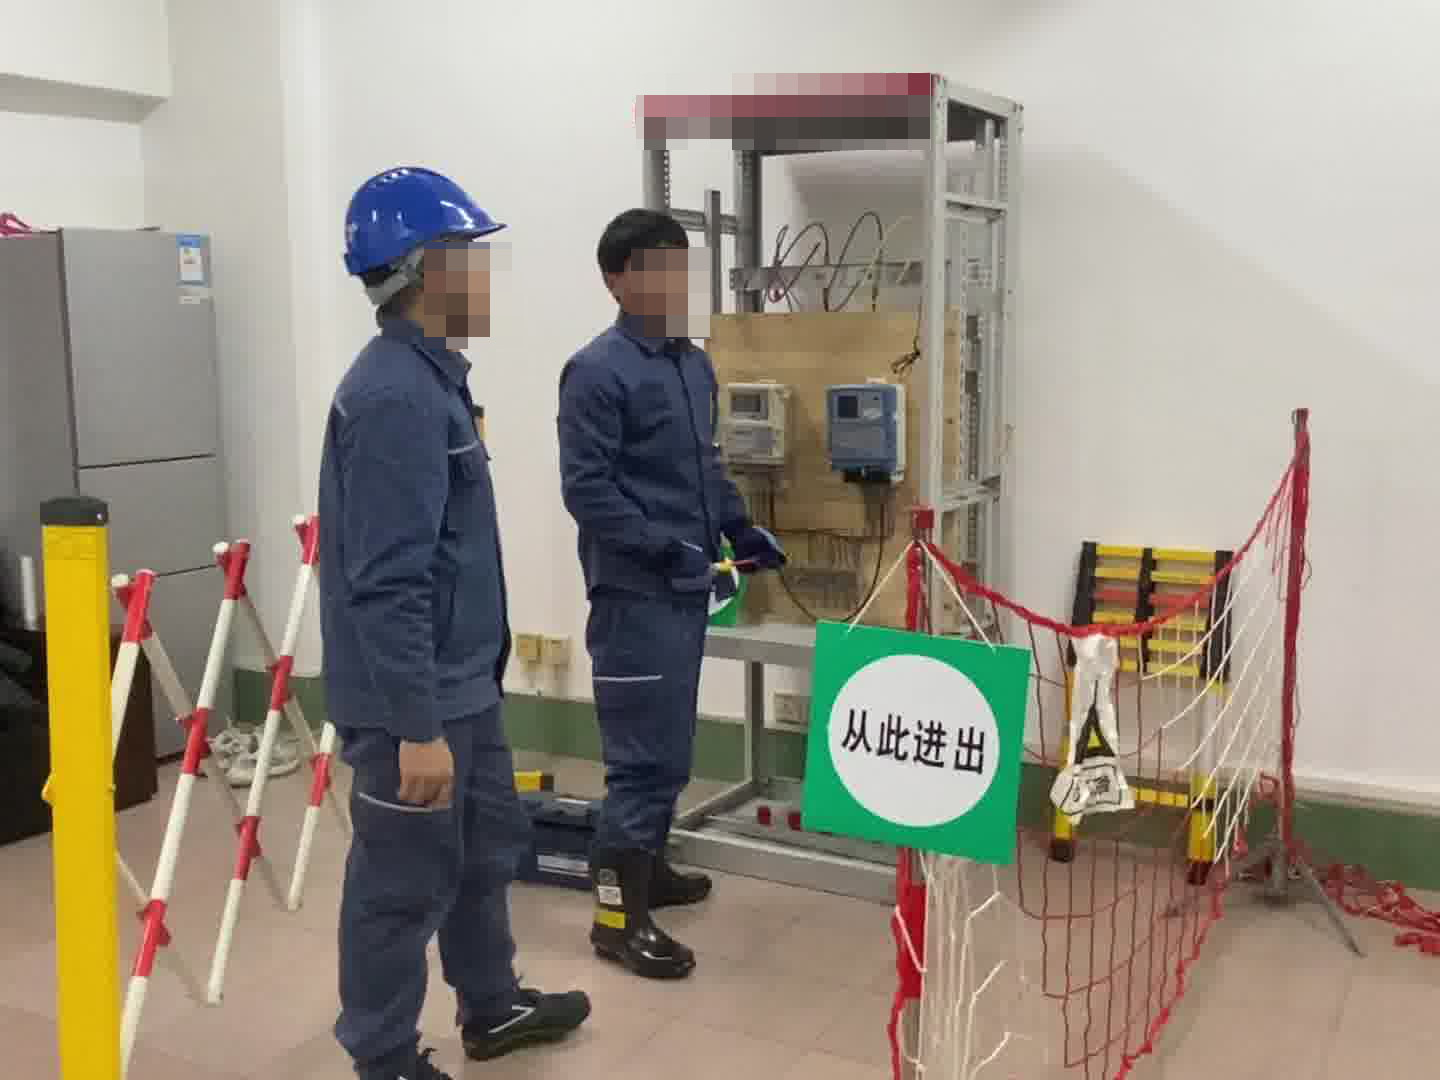downsuit: (331, 726, 535, 1058), (584, 597, 711, 864)
halt: (339, 164, 511, 339)
hand: (386, 736, 463, 816)
inear: (412, 243, 467, 329)
intosign: (789, 605, 1033, 880)
noear: (596, 269, 639, 310)
person: (299, 172, 572, 1079), (551, 209, 777, 1021)
shoe: (580, 847, 716, 977)
unhalt: (594, 211, 700, 326)
upsuit: (313, 340, 512, 725), (558, 320, 755, 585)
wglove: (650, 537, 740, 601), (730, 516, 795, 580)
